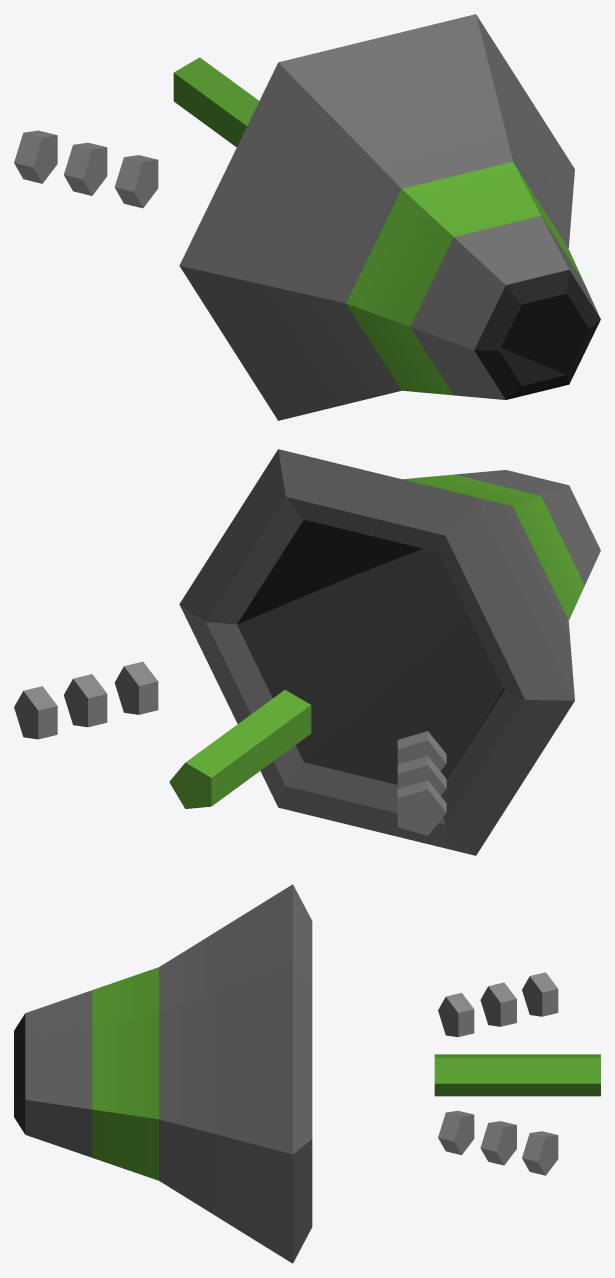
The model's file is ui_soundIconB.fbx.
The picture shows the model from 3 angles, top to bottom: view 1: azimuth 30°, elevation 25°; view 2: azimuth 150°, elevation 25°; view 3: azimuth 270°, elevation 25°; orthographic projection. The views are drawn at different scales.
Parts seen in each view (by area): view 1: polySurface315; view 2: polySurface315; view 3: polySurface315.
Part boxes in pixels (x1,y1,x2,y2): polySurface315: (14,14,600,420); polySurface315: (14,449,600,855); polySurface315: (14,884,600,1263).
Size of the model in its own units: 2.19 by 1.73 by 3.08.
